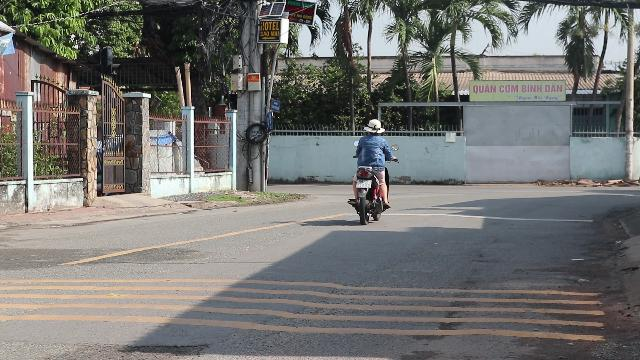motorcyclist: (346, 117, 394, 222)
nohelmet: (364, 120, 384, 136), (356, 179, 372, 188)
